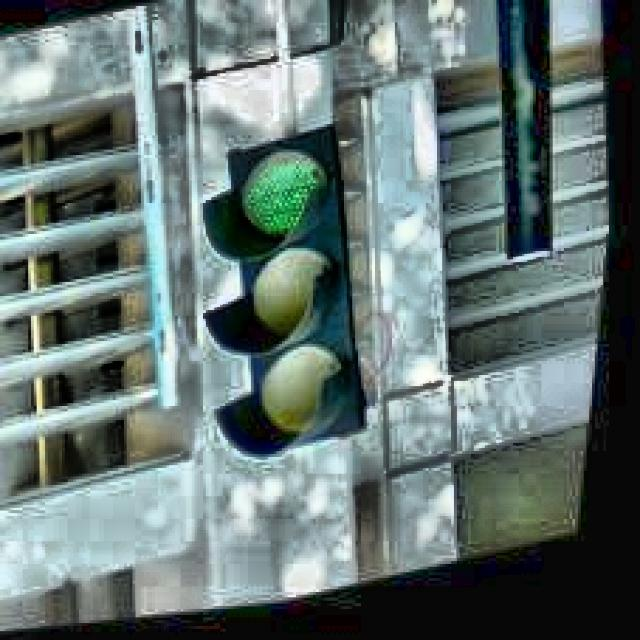green: (183, 127, 403, 476)
